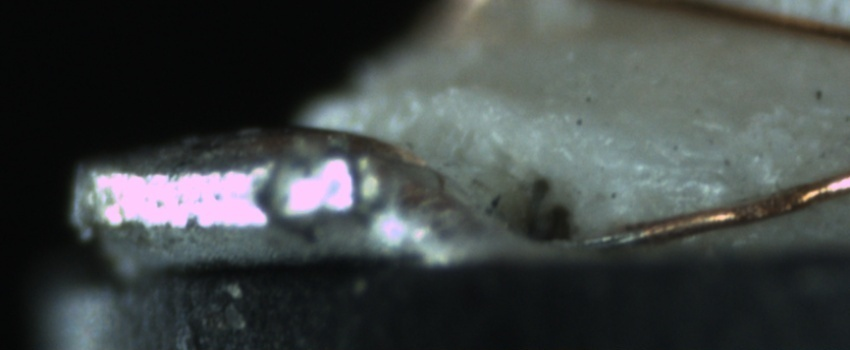DL: (616, 156, 729, 198)
TS: (541, 227, 642, 253)
